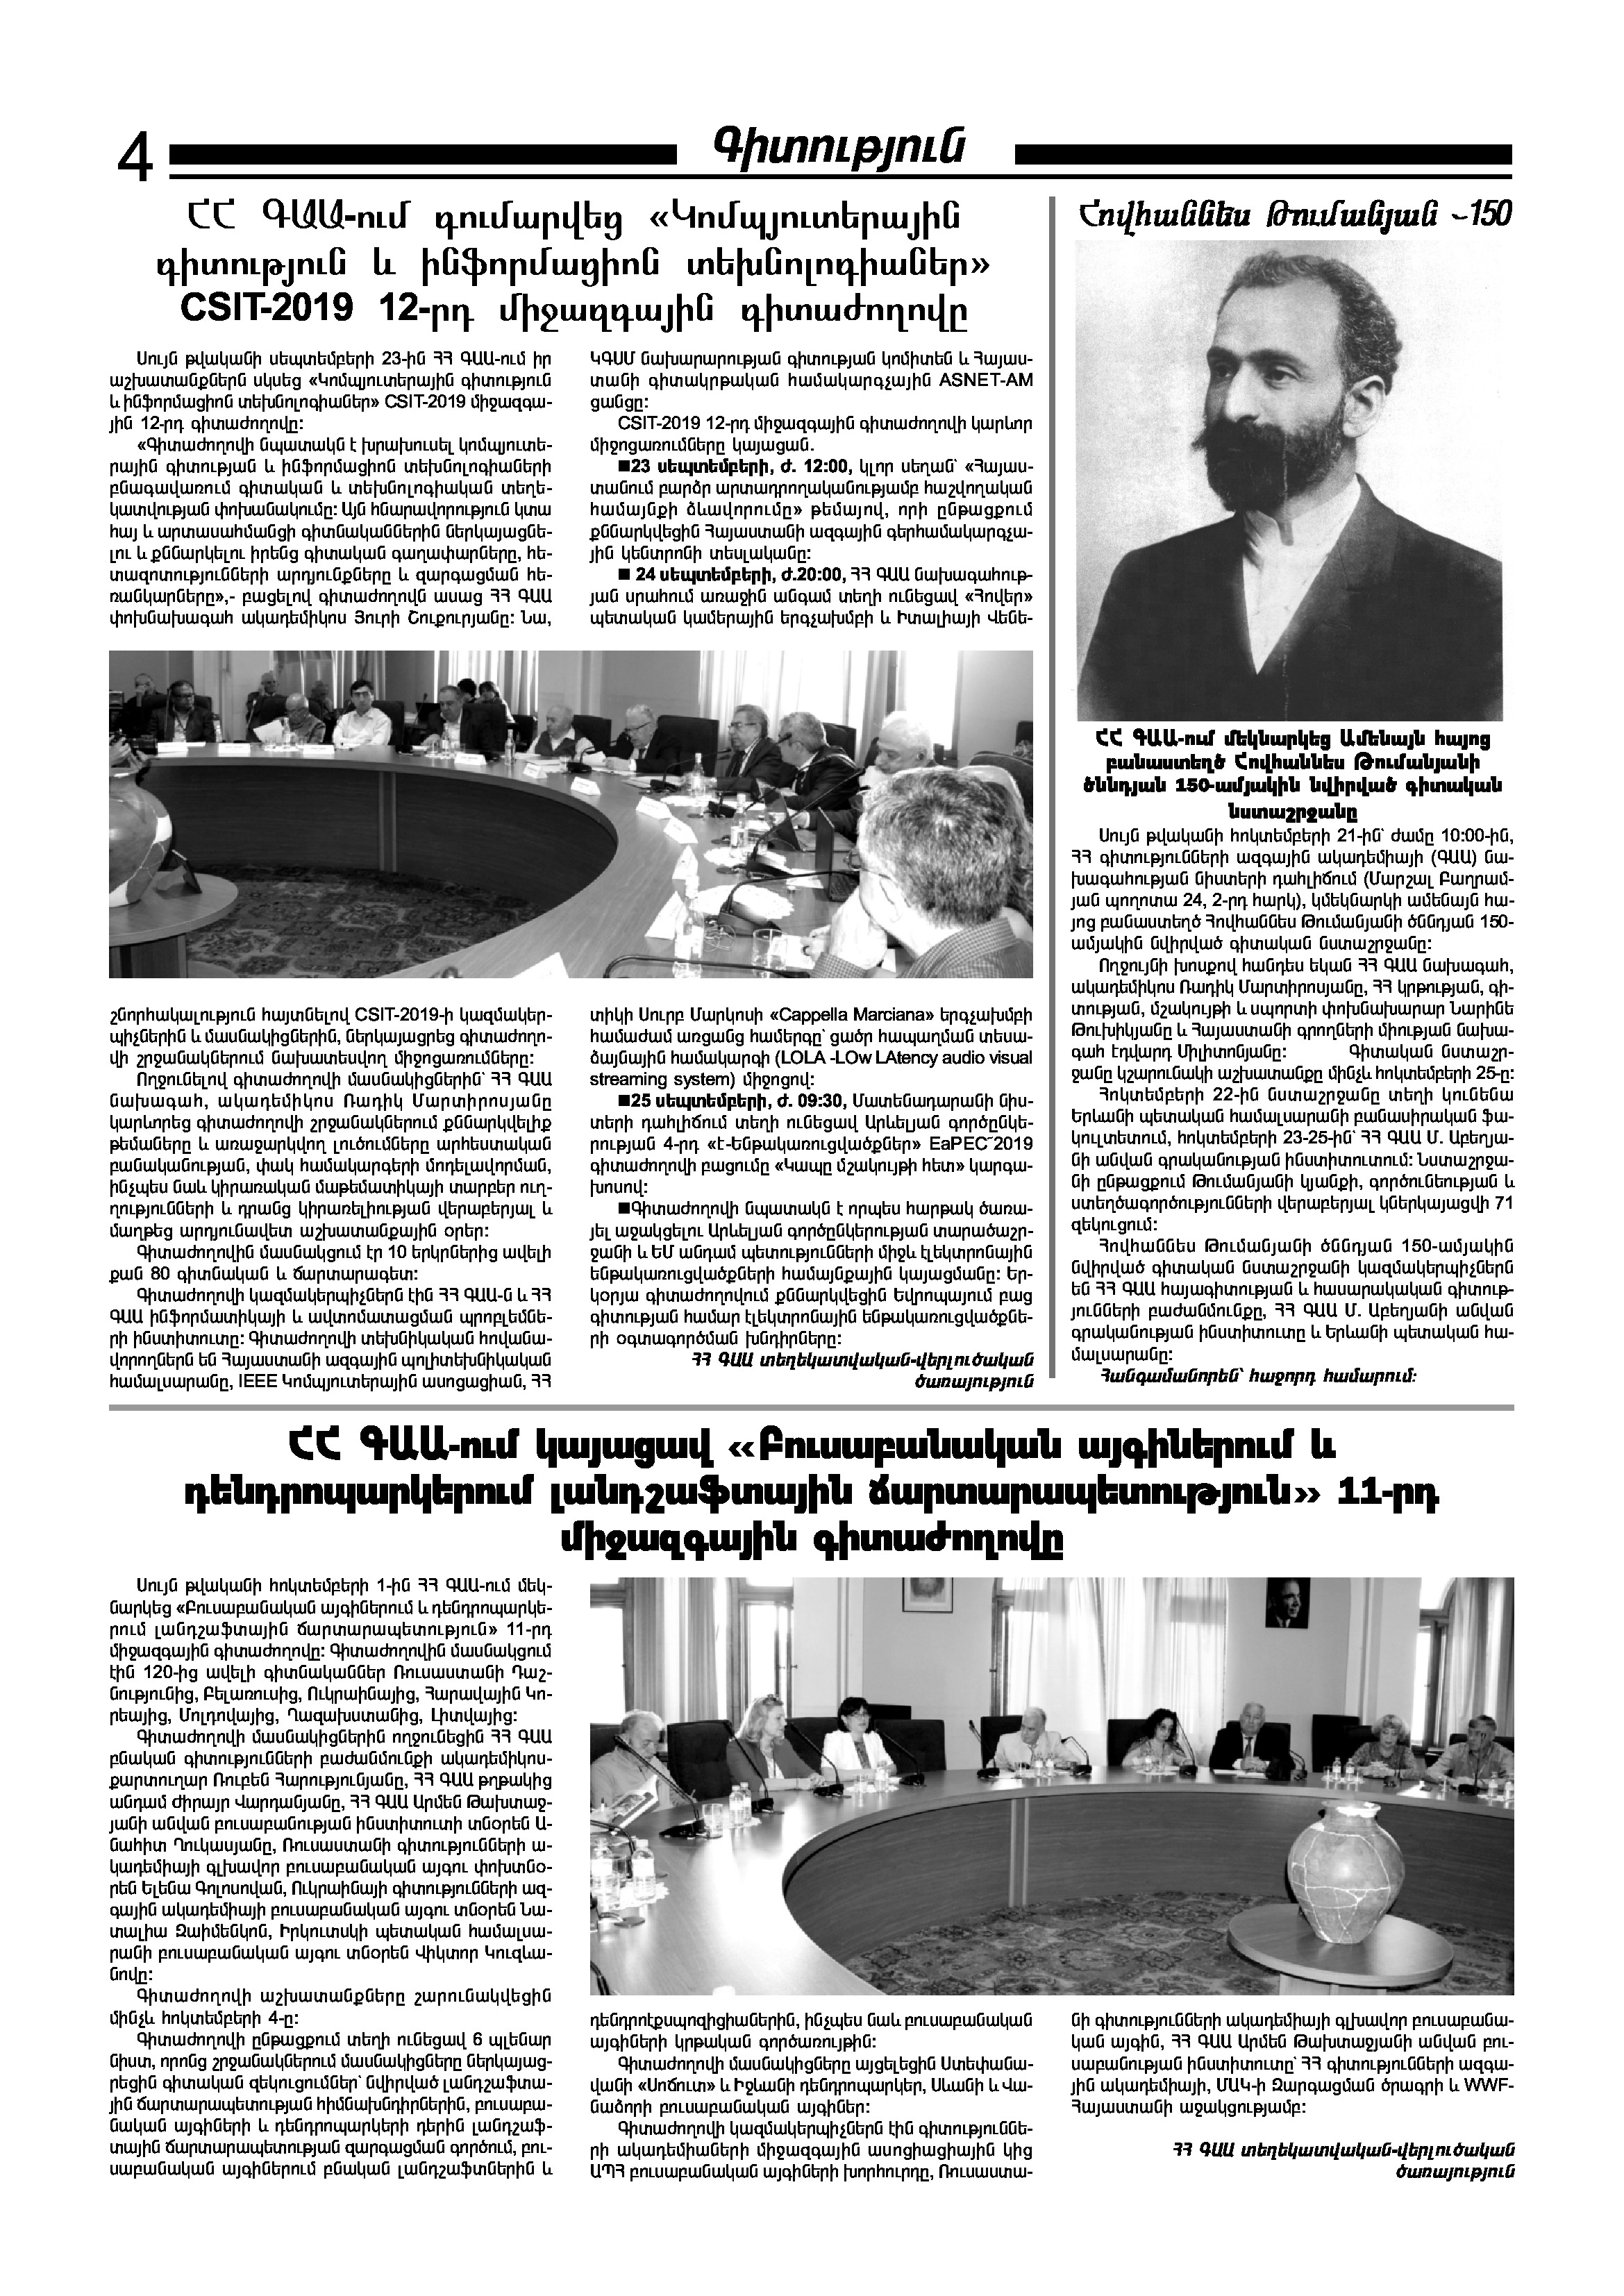person: (565, 1568, 1534, 2001), (92, 647, 1045, 984), (1083, 218, 1512, 726)
